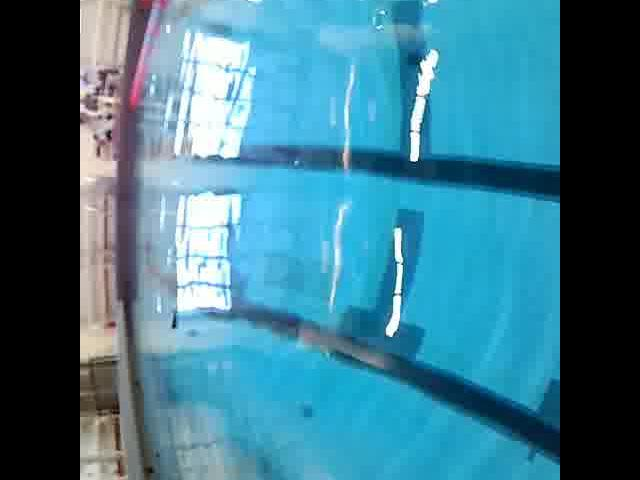CamMount: (166, 307, 186, 334)
